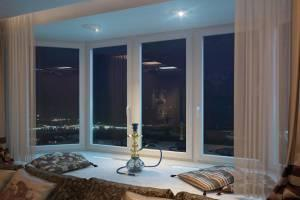window: (31, 27, 273, 164)
